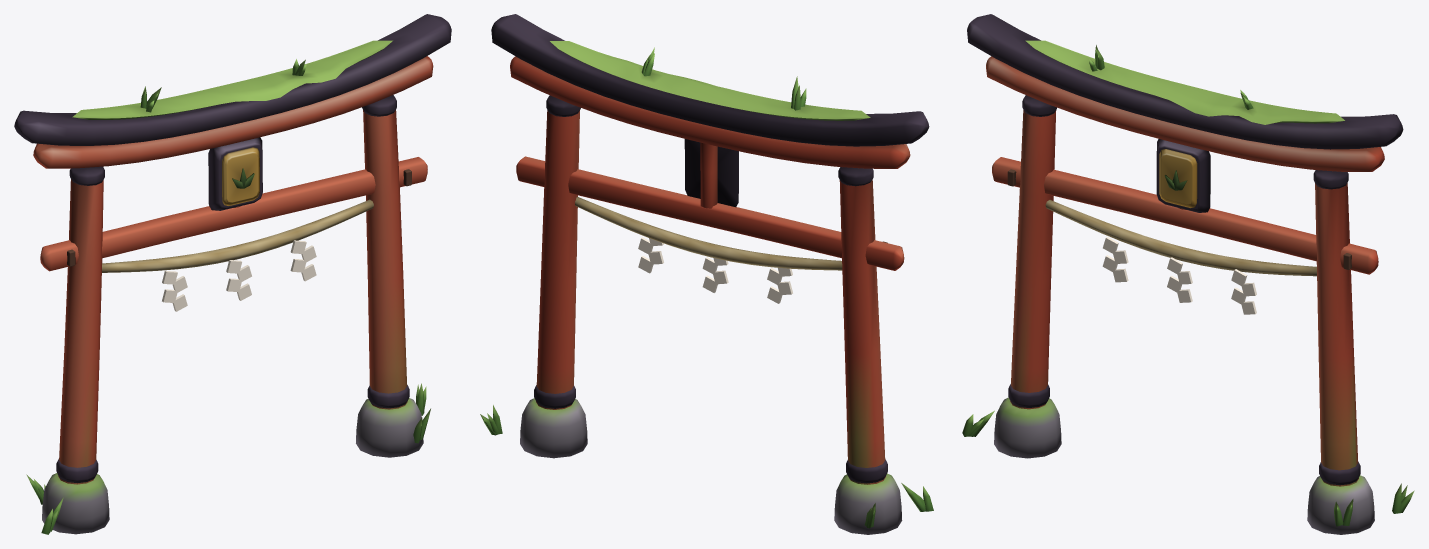
Rendered from rg-bamboo-torii.glb.
The picture shows the model from 3 angles, left to right: view 1: azimuth 30°, elevation 25°; view 2: azimuth 150°, elevation 25°; view 3: azimuth 330°, elevation 25°; orthographic projection.
Parts seen in each view (by area): view 1: body, stone, cloth, leaf; view 2: body, stone, cloth, leaf; view 3: body, stone, cloth, leaf.
Boxes of the visible parts, x1,y1,x2,y2 form: body: (14, 14, 451, 484); stone: (42, 40, 423, 534); cloth: (162, 240, 316, 311); leaf: (26, 59, 430, 534); body: (491, 14, 929, 484); stone: (520, 41, 902, 534); cloth: (638, 237, 792, 303); leaf: (480, 47, 933, 528); body: (967, 14, 1403, 486); stone: (994, 40, 1374, 534); cloth: (1102, 237, 1256, 314); leaf: (962, 45, 1414, 526).
Size of the model in its own units: 4.54 by 4.32 by 0.7415.
